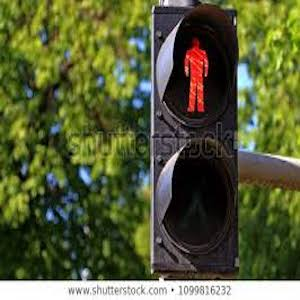red: (177, 35, 212, 109)
